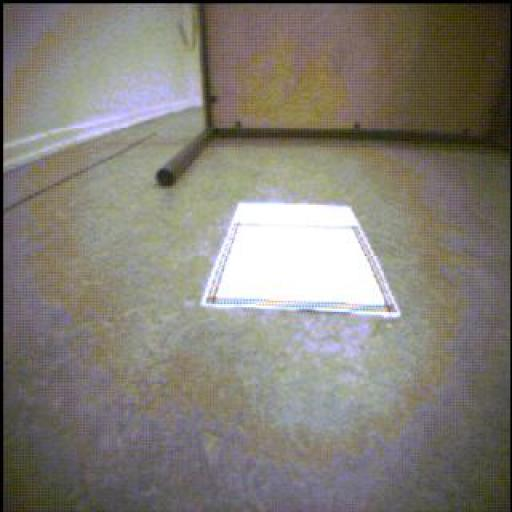Pad: (203, 205, 401, 320)
